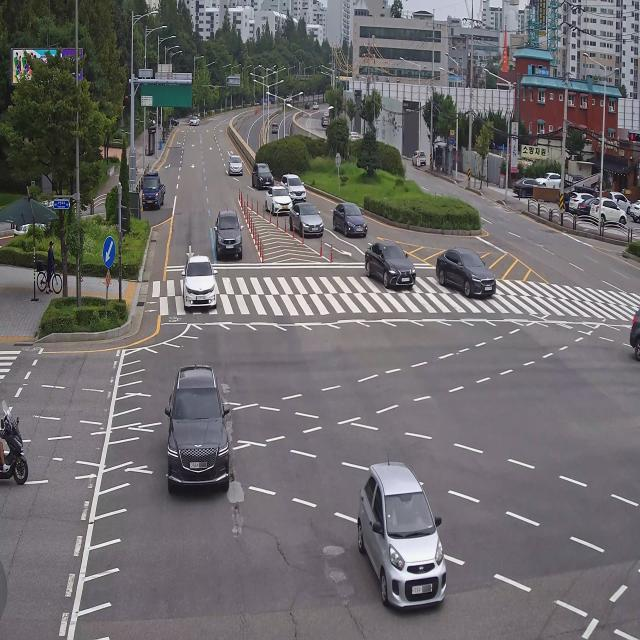Car: (358, 438, 446, 616), (155, 354, 239, 502), (431, 246, 508, 317), (357, 230, 417, 298), (209, 194, 252, 264), (181, 248, 222, 316), (287, 195, 329, 243), (335, 196, 372, 244), (590, 194, 627, 230), (220, 147, 252, 182), (512, 176, 549, 199), (569, 188, 594, 214), (608, 187, 631, 215), (536, 169, 562, 193), (577, 196, 600, 221), (628, 194, 640, 223), (412, 145, 426, 167), (568, 172, 585, 186), (346, 128, 361, 143), (186, 115, 201, 128), (271, 120, 281, 135), (168, 116, 181, 127), (321, 114, 329, 129), (311, 98, 319, 111), (302, 99, 310, 111), (323, 108, 330, 116)
Motorcycle: (0, 389, 33, 490)
Truck: (138, 165, 172, 224), (558, 167, 600, 213)
